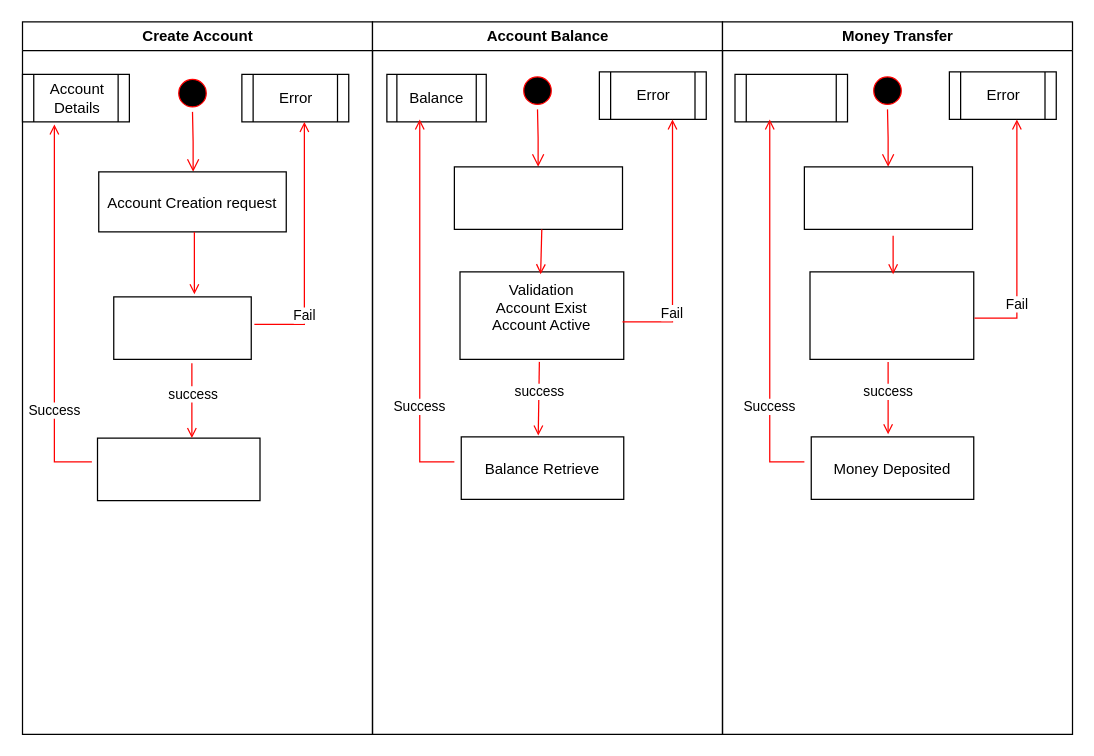
Some shapes in this 1094 by 756 pixel diagram are drawn without their labels. Each missing label, with the centre of its shape:
"Account Created" belongs at (x=178, y=469).
"Data Validation" belongs at (x=181, y=327).
"Deposit Fund Request" belongs at (x=537, y=197).
"Money Transfer Request" belongs at (x=887, y=197).
"Transfer Confirmation" belongs at (x=791, y=97).
"Validation Account Exist Account Active sufficient fund" belongs at (x=891, y=315).
